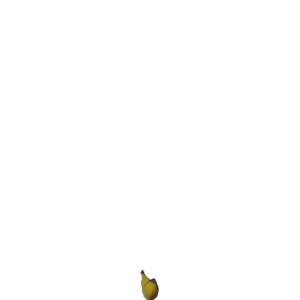banana: (139, 269, 160, 300)
